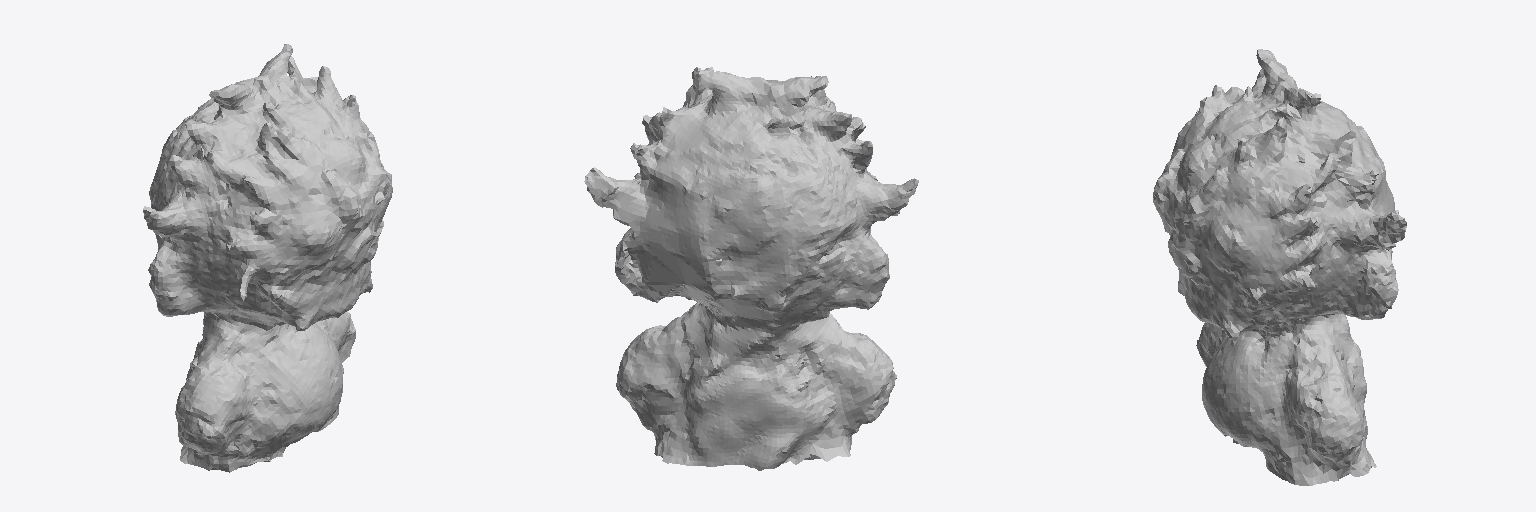
The model's file is model1_remesh.obj.
The picture shows the model from 3 angles: view 1: azimuth 30°, elevation 25°; view 2: azimuth 150°, elevation 25°; view 3: azimuth 270°, elevation 25°; orthographic projection.
Visible parts, largest first — view 1: LowRes; view 2: LowRes; view 3: LowRes.
Part boxes in pixels (x1,y1,x2,y2): LowRes: (143,44,392,472); LowRes: (584,67,918,470); LowRes: (1153,49,1406,485).
Size of the model in its own units: 0.6276 by 0.8486 by 0.5248.